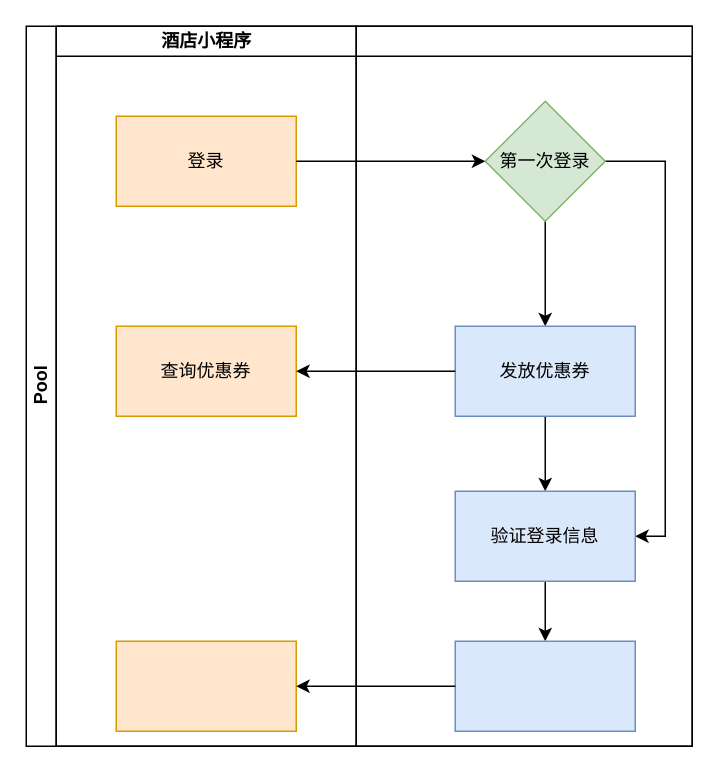
Image size: 719x773. Some labels were removed from this diagram. Here are the shapes that lost their labels. From the top down, the box of each, then its label:
(355, 25, 692, 746): 小程序后天
(115, 640, 296, 731): 获取登录结果
(454, 640, 635, 731): 返回登录结果
